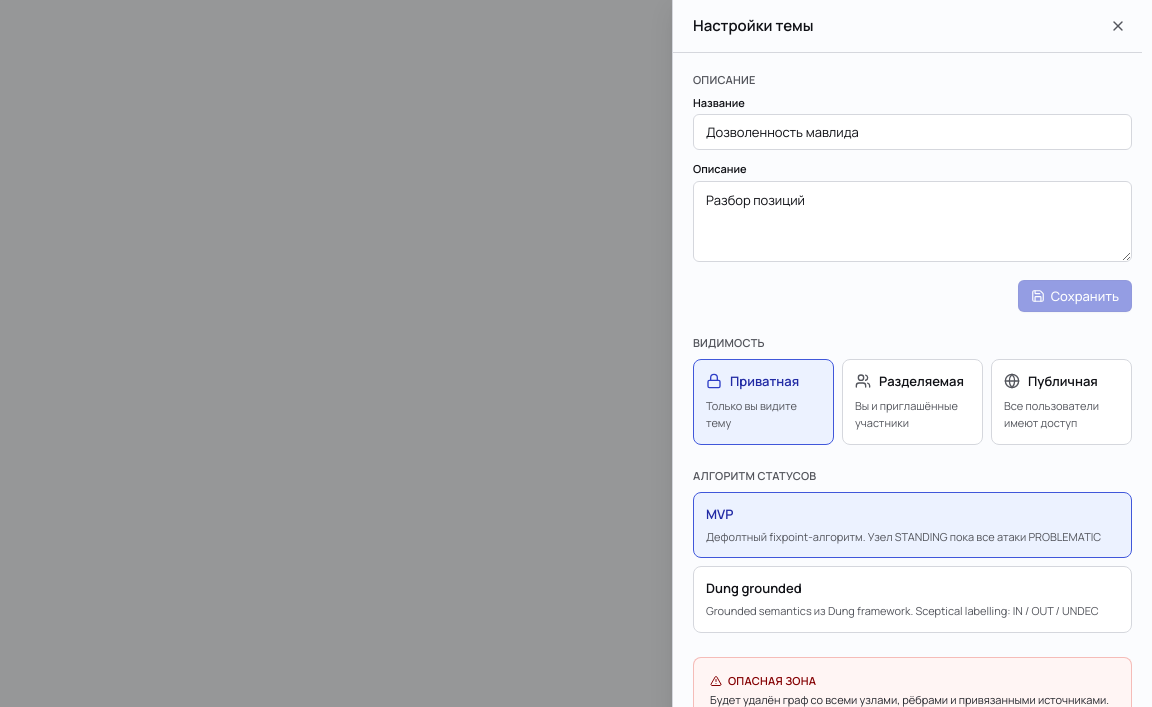
TopicSettingsDrawer › edit form: save button disabled при пустом title
Clear the field with test id "topic-edit-title" at (912, 132), box [706,123,1119,142]
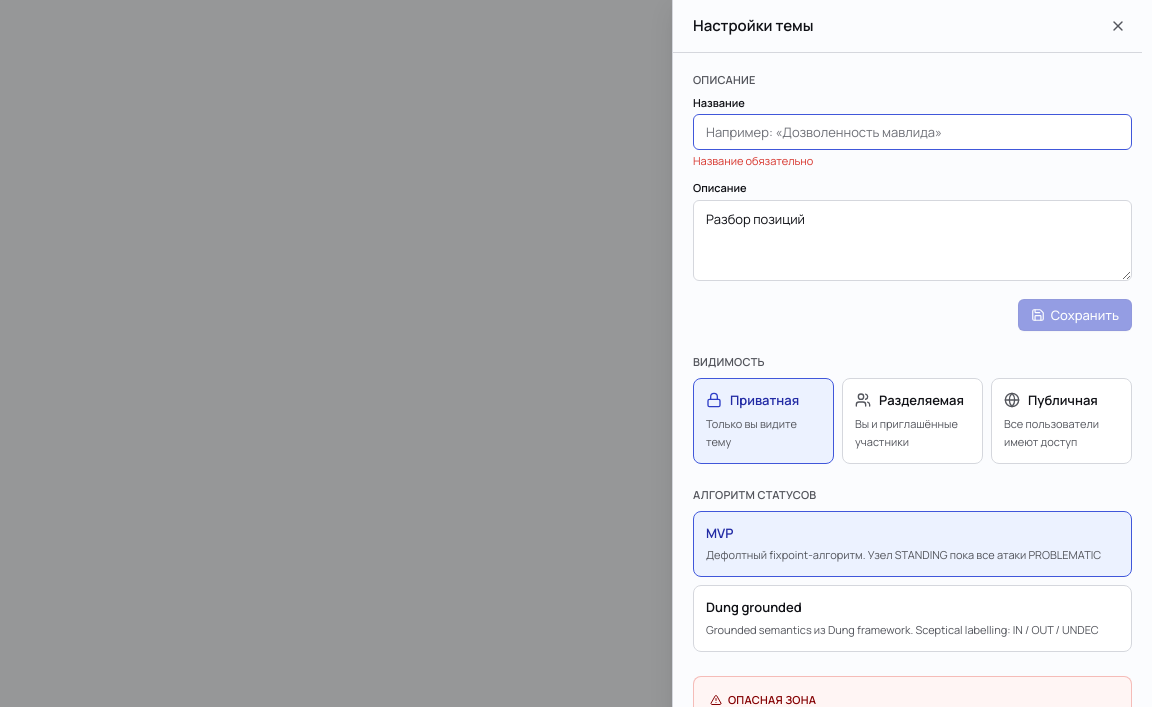
Expected: the button with test id "topic-edit-save" is disabled, [1018,299,1132,331]
Result: the text "Название обязательно" is shown at [693,153,813,168]
